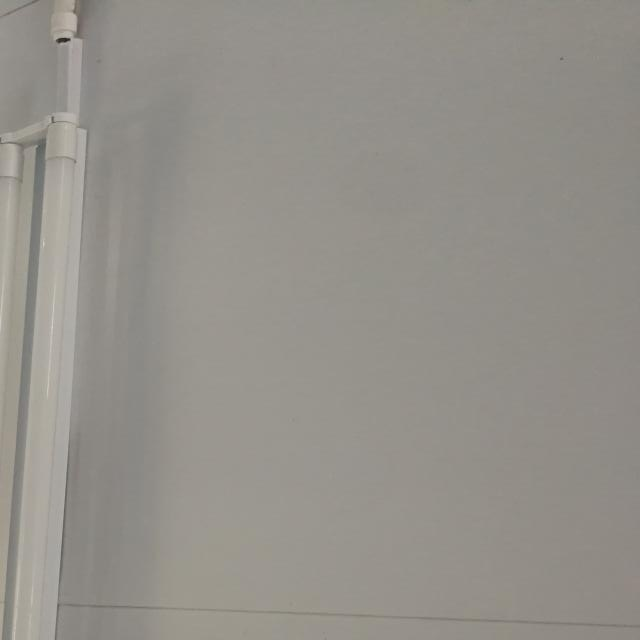fluorescent tube: (0, 85, 118, 639)
